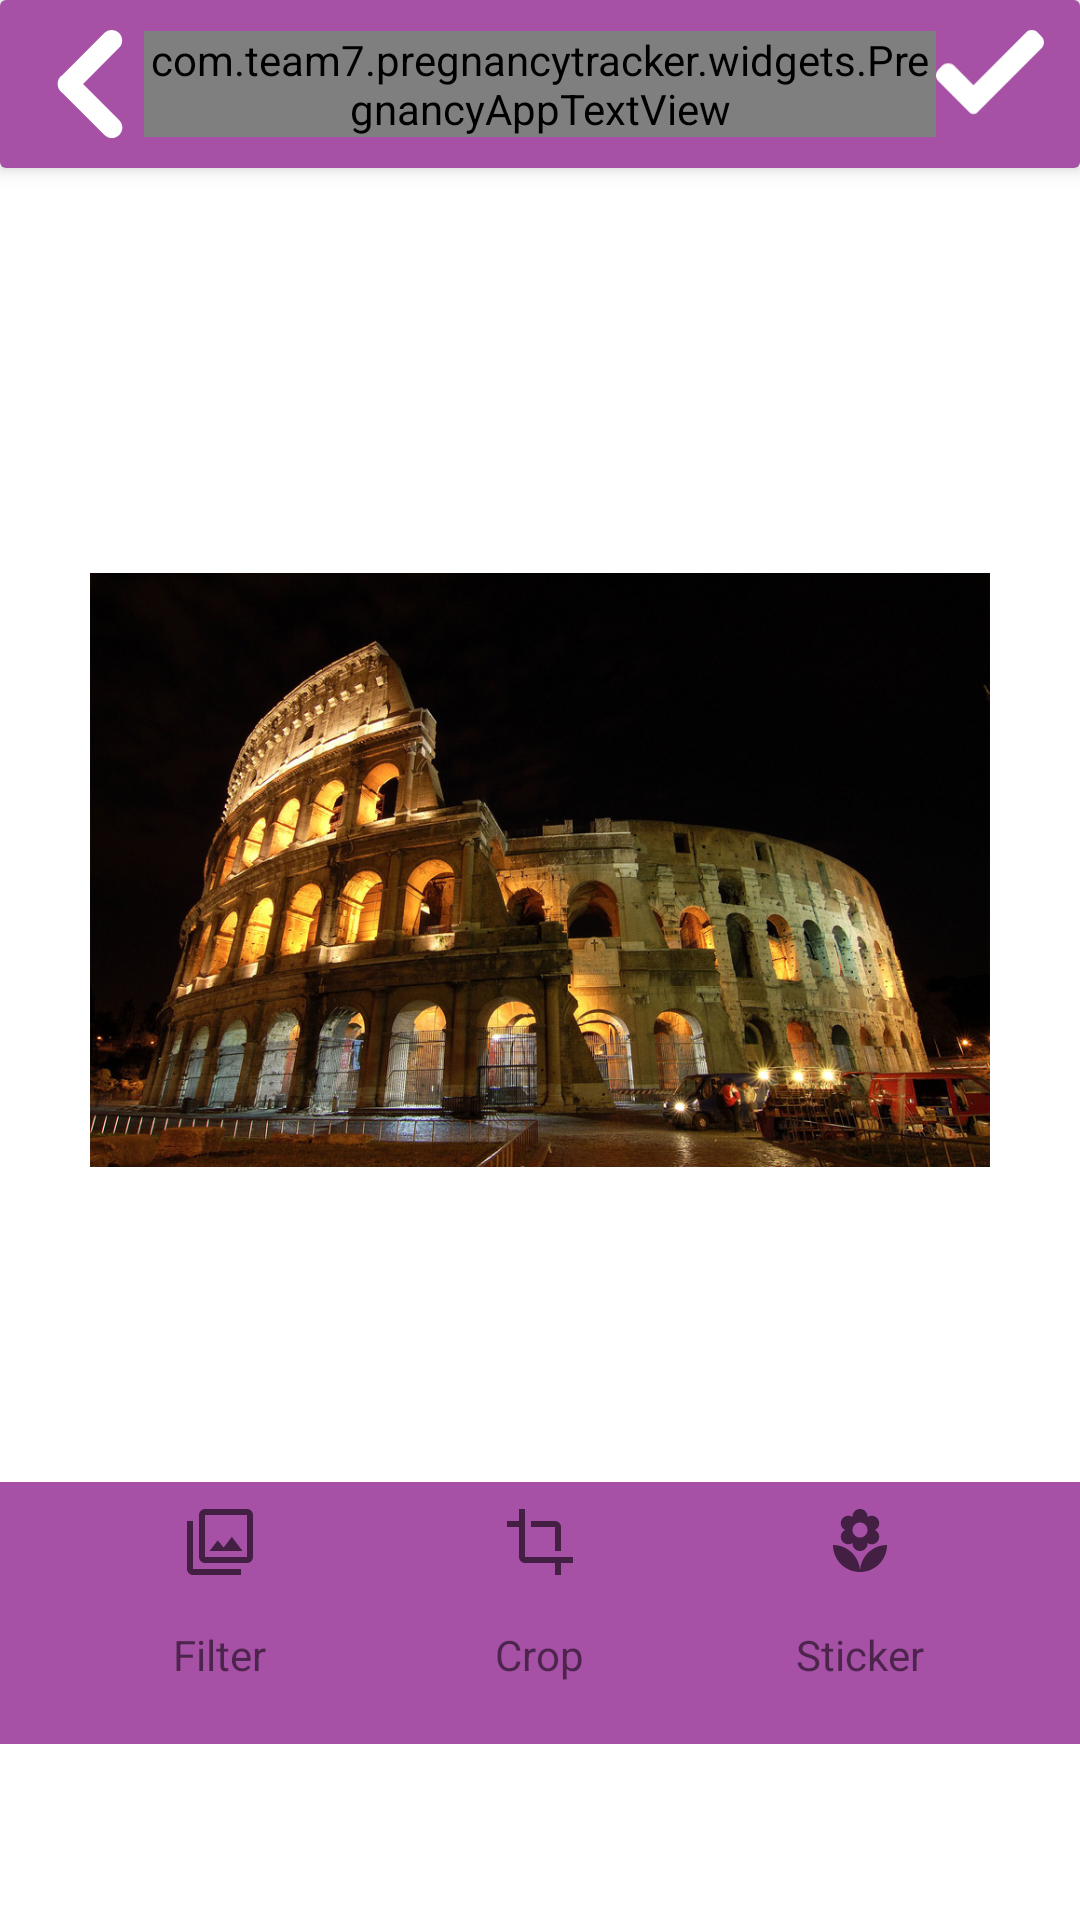

Screen size 1080*1920. Icon name, then its box in pixels as [x1, y1, x2, y2]:
back: [57, 30, 123, 138]
check: [936, 30, 1044, 115]
local florist: [833, 1509, 887, 1572]
